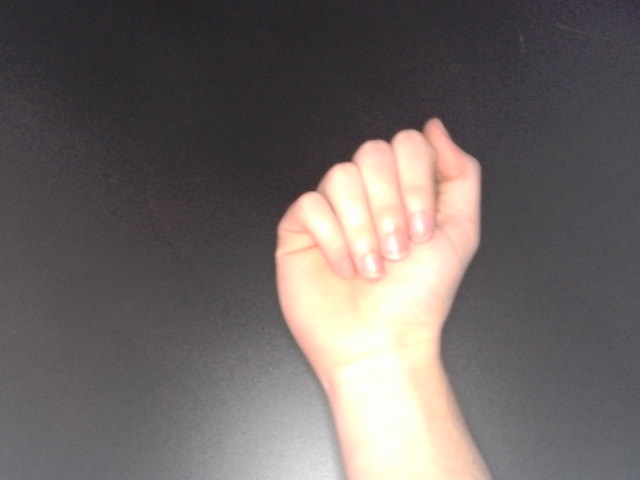a: (268, 114, 488, 389)
